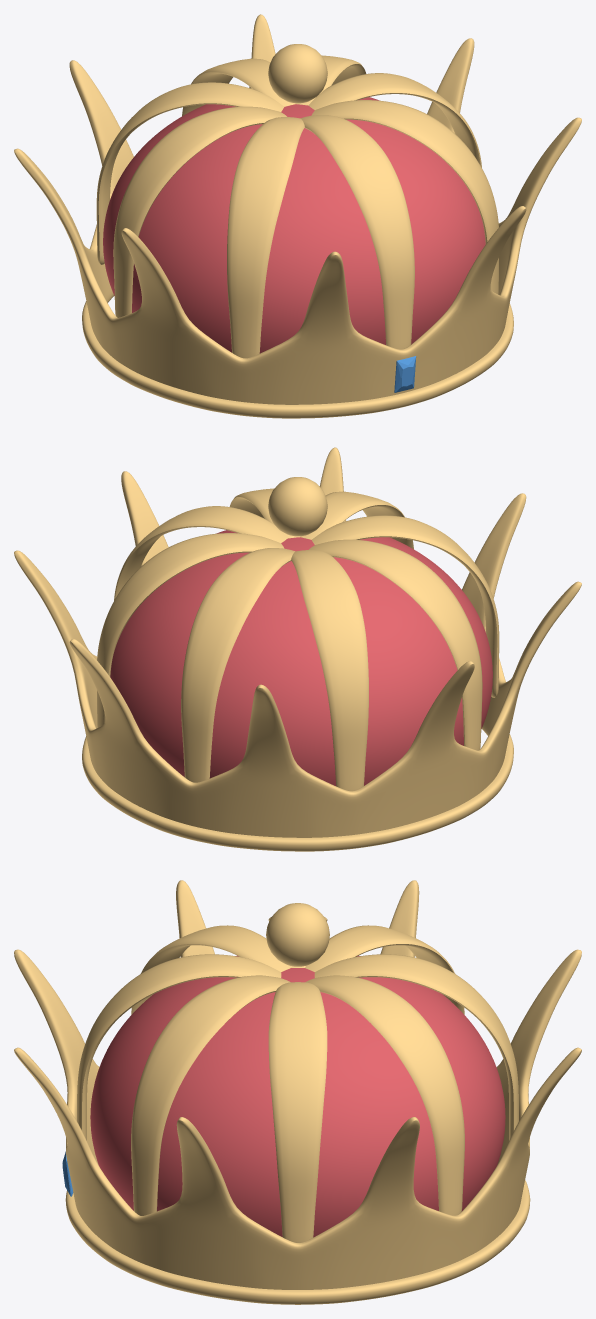
Rendered from Crown.gltf.
3 renders of one model, top to bottom at view 1: azimuth 30°, elevation 25°; view 2: azimuth 150°, elevation 25°; view 3: azimuth 270°, elevation 25°, orthographic. The views are drawn at different scales.
Visible parts, largest first — view 1: hat8-PBR (×2), hat8-PBR.1, hat8-PBR.2; view 2: hat8-PBR (×2), hat8-PBR.1; view 3: hat8-PBR (×2), hat8-PBR.1.
Part boxes in pixels (x1,y1,x2,y2): hat8-PBR (×2): [14, 14, 581, 418]; hat8-PBR.1: [103, 97, 485, 353]; hat8-PBR.2: [394, 356, 416, 392]; hat8-PBR (×2): [14, 447, 581, 851]; hat8-PBR.1: [110, 530, 492, 785]; hat8-PBR (×2): [14, 880, 581, 1304]; hat8-PBR.1: [90, 955, 505, 1237].
Bounding box in the file's own units: 7.58 × 4.47 × 7.58.
